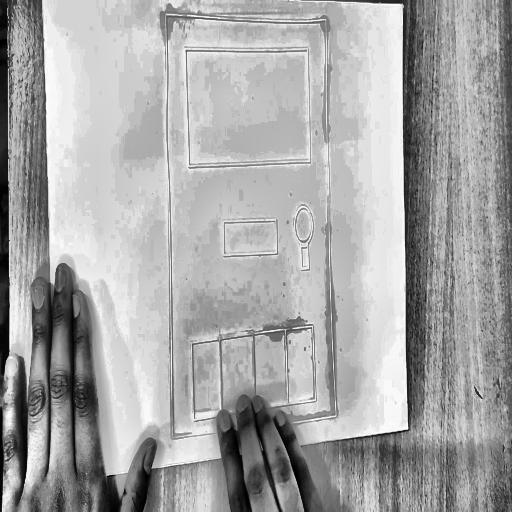bottom_left: (55, 470, 60, 479)
bottom_right: (406, 424, 411, 432)
door: (162, 6, 341, 449)
top_right: (401, 2, 405, 8)
